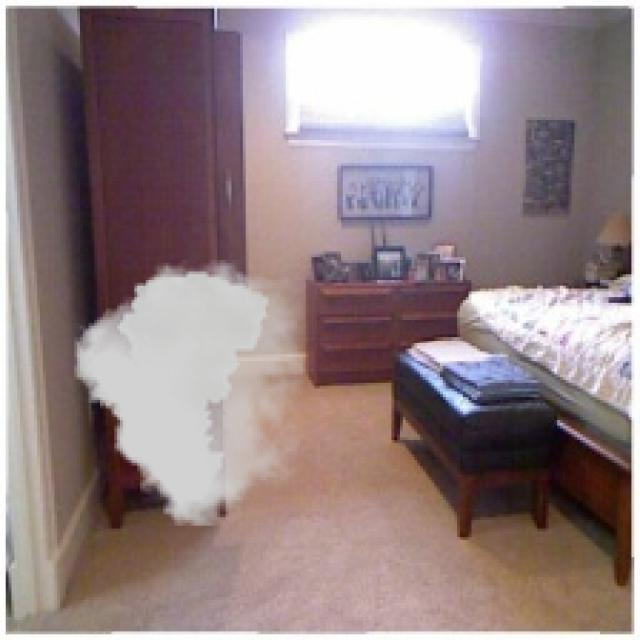Smoke: (74, 260, 303, 526)
